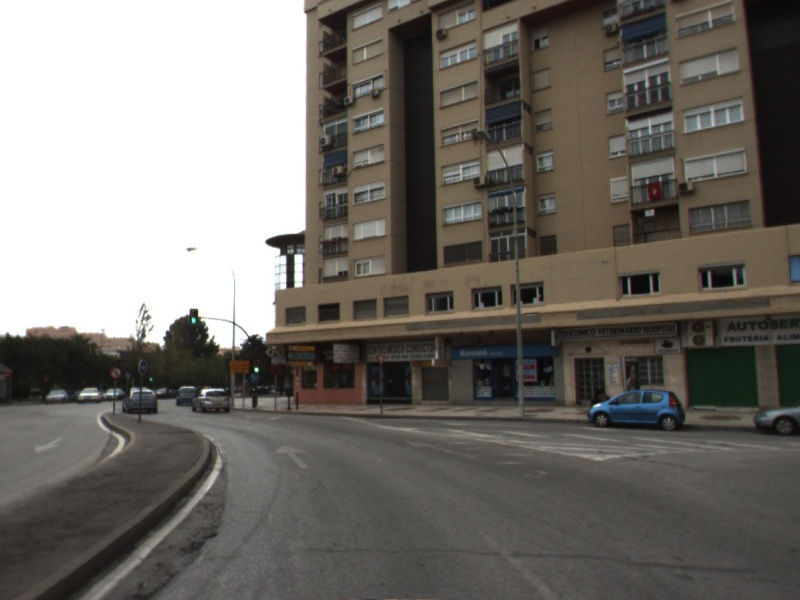STRAIGHT: (403, 437, 480, 461), (272, 442, 312, 471)
